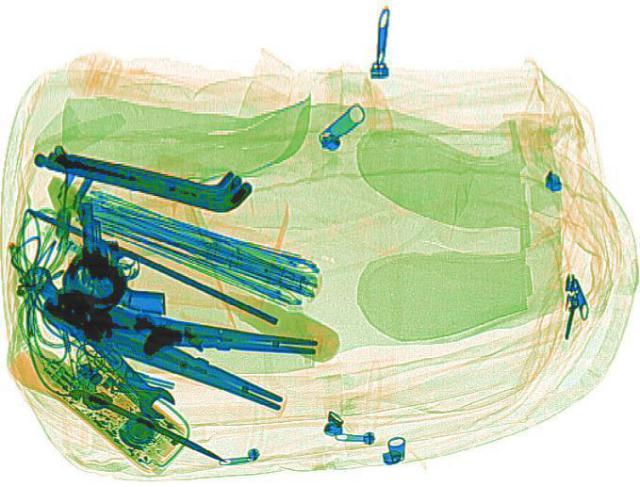Gun: (72, 200, 168, 309)
Wrench: (9, 258, 185, 424)
